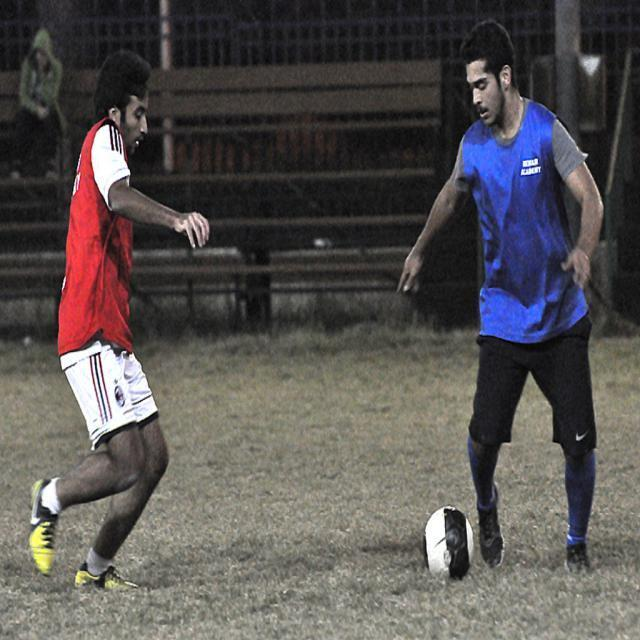football: (401, 487, 475, 584)
